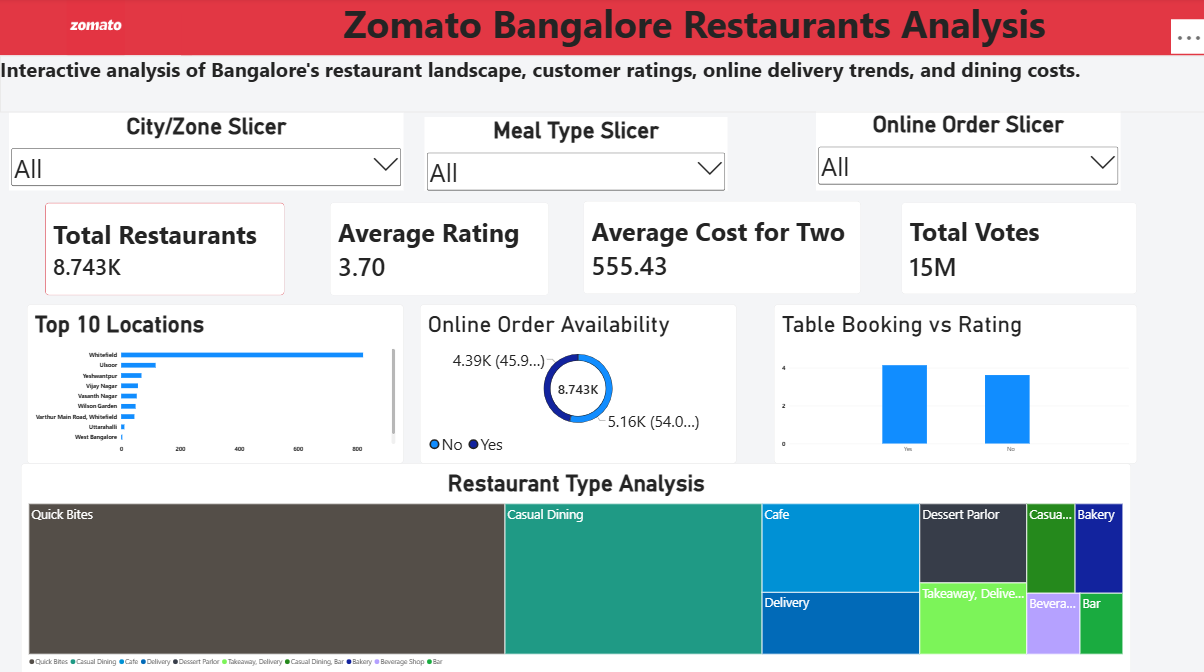

The page's visual inventory and layout, read from the dashboard file:
{"tool":"powerbi","page":{"name":"Page 1","canvas":[2560,1440],"ordinal":0},"visuals":[{"type":"cardVisual","fields":{"Data":["Sum(zomato.votes)"]},"box":[1911.9,435.8,499.5,194.1],"z":0},{"type":"cardVisual","title":"Total Restaurants","fields":{"Data":["Count(zomato.name)"]},"box":[95.4,435.8,509,197.2],"z":1000},{"type":"cardVisual","fields":{"Data":["Avg(zomato.rate)"]},"box":[699.9,435.8,464.5,197.2],"z":2000},{"type":"cardVisual","fields":{"Data":["Avg(zomato.approx_cost(for two people))"]},"box":[1237.5,432.6,588.5,197.2],"z":3000},{"type":"image","box":[0,0,407.2,124.1],"z":4000},{"type":"donutChart","title":"Online Order Availability ","fields":{"Category":["zomato.online_order"],"Y":["Count(zomato.name)"]},"box":[890.7,652.2,671.2,337.2],"z":5000},{"type":"clusteredColumnChart","title":"Table Booking vs Rating ","fields":{"Category":["zomato.book_table"],"Y":["Avg(zomato.rate)"]},"box":[1641.5,652.2,769.9,337.2],"z":6000},{"type":"treemap","title":"Restaurant Type Analysis","fields":{"Group":["zomato.rest_type"],"Values":["CountNonNull(zomato.name)"]},"box":[44.5,989.4,2354.1,451.7],"z":7000},{"type":"slicer","title":"City/Zone Slicer","fields":{"Values":["zomato.listed_in(city)"]},"box":[19.1,245,836.7,165.4],"z":8000},{"type":"slicer","title":"Meal Type Slicer","fields":{"Values":["zomato.listed_in(type)"]},"box":[900.3,254.5,642.6,155.9],"z":9000},{"type":"slicer","title":"Online Order Slicer","fields":{"Values":["zomato.online_order"]},"box":[1730.6,241.8,645.8,168.6],"z":10000},{"type":"textbox","box":[384.9,0,2176,124.1],"z":11000},{"type":"clusteredBarChart","title":"Top 10 Locations","fields":{"Category":["zomato.location"],"Y":["Count(zomato.name)"]},"box":[57.3,652.2,798.5,337.2],"z":12000},{"type":"textbox","box":[0,124.1,2560.9,120.9],"z":13000}]}

Visuals, with their boxes in screenshot pixels (x1, y1, x2, y2), scaled from the page's 2560x1440 canvas onto the 1204x672 screenshot:
cardVisual - Sum(zomato.votes): <bbox>899, 203, 1134, 294</bbox>
"Total Restaurants" cardVisual: <bbox>45, 203, 284, 295</bbox>
cardVisual - Avg(zomato.rate): <bbox>329, 203, 548, 295</bbox>
cardVisual - Avg(zomato.approx_cost(for two people)): <bbox>582, 202, 859, 294</bbox>
image: <bbox>0, 0, 192, 58</bbox>
"Online Order Availability " donutChart: <bbox>419, 304, 735, 462</bbox>
"Table Booking vs Rating " clusteredColumnChart: <bbox>772, 304, 1134, 462</bbox>
"Restaurant Type Analysis" treemap: <bbox>21, 462, 1128, 671</bbox>
"City/Zone Slicer" slicer: <bbox>9, 114, 402, 192</bbox>
"Meal Type Slicer" slicer: <bbox>423, 119, 726, 192</bbox>
"Online Order Slicer" slicer: <bbox>814, 113, 1118, 192</bbox>
textbox: <bbox>181, 0, 1203, 58</bbox>
"Top 10 Locations" clusteredBarChart: <bbox>27, 304, 402, 462</bbox>
textbox: <bbox>0, 58, 1203, 114</bbox>
